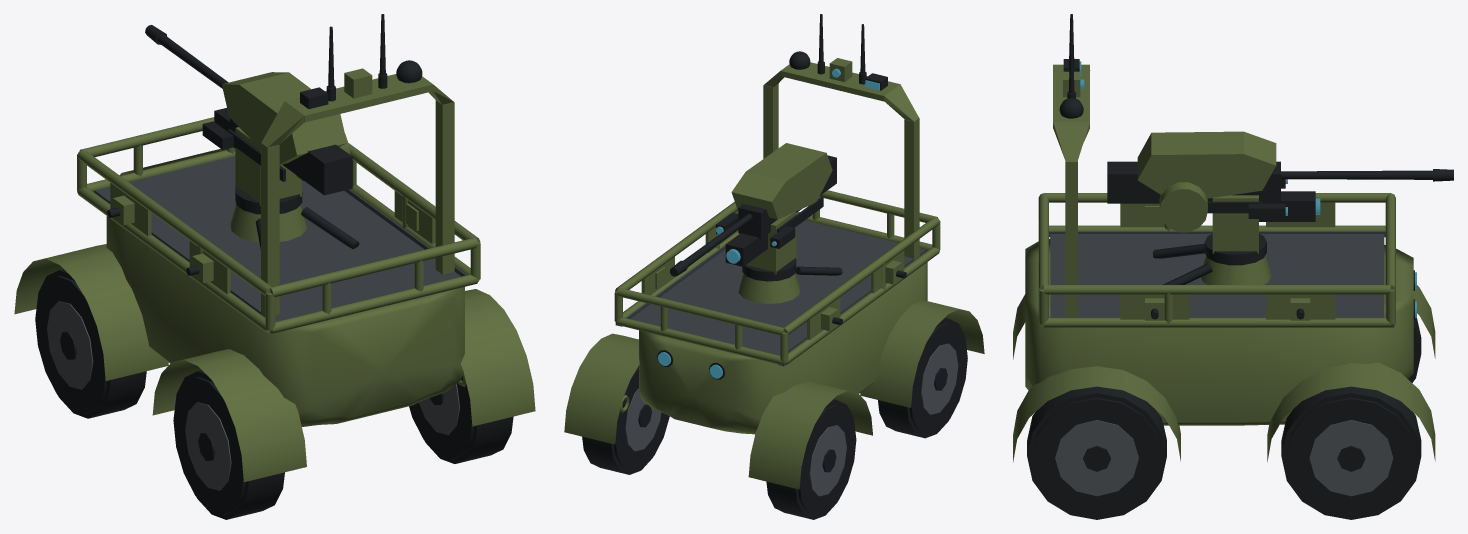
Rendered from ugv-3.5.glb.
The picture shows the model from 3 angles, left to right: view 1: azimuth 30°, elevation 25°; view 2: azimuth 150°, elevation 25°; view 3: azimuth 270°, elevation 25°; orthographic projection. The views are drawn at different scales.
Parts seen in each view (by area): view 1: ugv-hull, ugv-deck, ugv-mudguard-lb, ugv-mudguard-lf, ugv-mudguard-rb, ugv-cowl, ugv-wheel-lf-shoulder, ugv-wheel-lb-shoulder, ugv-mast-post, ugv-mast-post.001, ugv-rail-top-side-l, ugv-wheel-lf-rim (+26 smaller); view 2: ugv-hull, ugv-deck, ugv-mudguard-lf, ugv-mudguard-rf, ugv-mudguard-lb, ugv-cowl, ugv-wheel-lb-shoulder, ugv-wheel-lf-shoulder, ugv-mast-post.001, ugv-rail-top-side-l, ugv-wheel-rf-shoulder, ugv-wheel-lb-rim (+22 smaller); view 3: ugv-hull, ugv-deck, ugv-cowl, ugv-wheel-rb-shoulder, ugv-wheel-rf-shoulder, ugv-wheel-rf-rim, ugv-wheel-rb-rim, ugv-mudguard-rf, ugv-mudguard-rb, ugv-rail-top-side-r, ugv-wheel-rf-tyre, ugv-wheel-rb-tyre (+26 smaller).
Part boxes in pixels (x1,y1,x2,y2): ugv-hull: (106, 148, 464, 426); ugv-deck: (94, 156, 460, 321); ugv-mudguard-lb: (152, 349, 306, 482); ugv-mudguard-lf: (14, 244, 168, 380); ugv-mudguard-rb: (460, 289, 535, 426); ugv-cowl: (221, 72, 346, 164); ugv-wheel-lf-shoulder: (35, 275, 107, 414); ugv-wheel-lb-shoulder: (173, 376, 245, 515); ugv-mast-post: (435, 100, 454, 274); ugv-mast-post.001: (261, 143, 279, 316); ugv-rail-top-side-l: (77, 150, 271, 295); ugv-wheel-lf-rim: (47, 301, 93, 389); ugv-hull: (639, 217, 927, 434); ugv-deck: (630, 220, 925, 355); ugv-mudguard-lf: (748, 381, 872, 489); ugv-mudguard-rf: (564, 333, 639, 444); ugv-mudguard-lb: (860, 300, 984, 407); ugv-cowl: (731, 143, 832, 219); ugv-wheel-lb-shoulder: (909, 323, 967, 434); ugv-wheel-lf-shoulder: (798, 404, 856, 516); ugv-mast-post.001: (904, 118, 919, 259); ugv-rail-top-side-l: (783, 217, 939, 334); ugv-wheel-rf-shoulder: (613, 366, 669, 471); ugv-wheel-lb-rim: (921, 343, 958, 414); ugv-hull: (1025, 238, 1413, 425); ugv-deck: (1050, 234, 1384, 317); ugv-cowl: (1137, 131, 1276, 198); ugv-wheel-rb-shoulder: (1032, 397, 1161, 516); ugv-wheel-rf-shoulder: (1286, 397, 1416, 516); ugv-wheel-rf-rim: (1309, 420, 1393, 496); ugv-wheel-rb-rim: (1055, 420, 1138, 496); ugv-mudguard-rf: (1267, 362, 1435, 462); ugv-mudguard-rb: (1013, 366, 1180, 462); ugv-rail-top-side-r: (1044, 285, 1390, 294); ugv-wheel-rf-tyre: (1281, 386, 1421, 519); ugv-wheel-rb-tyre: (1027, 386, 1166, 519).
Size of the model in its own units: 1.34 by 2.07 by 1.91.
